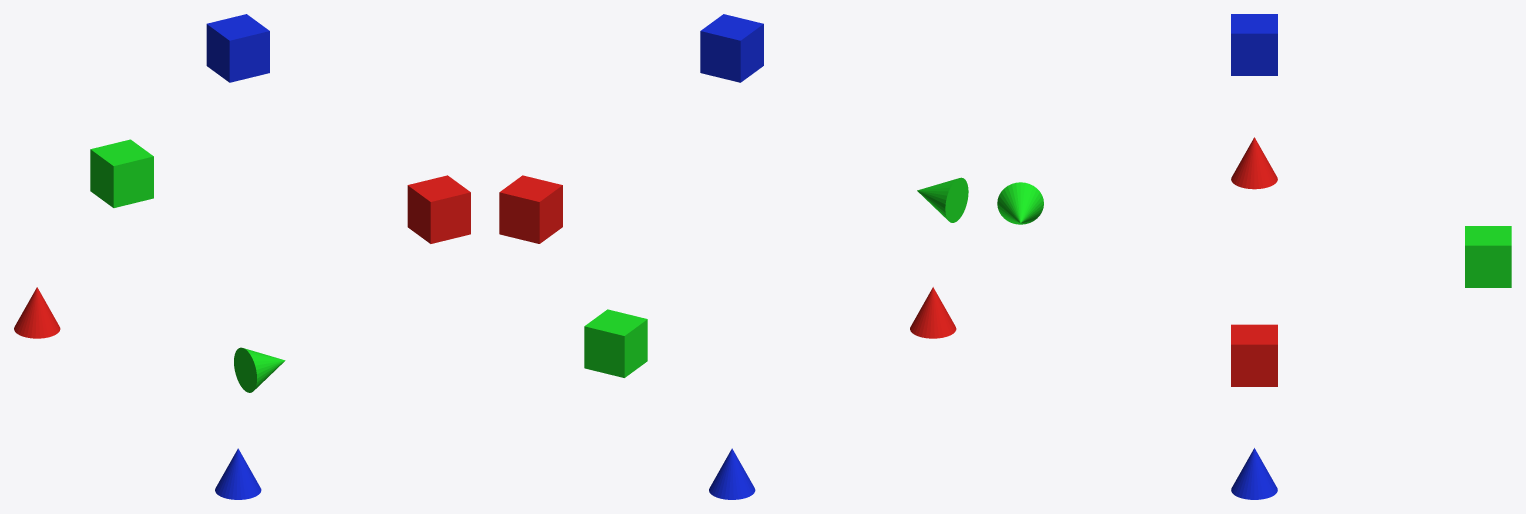
Rendered from cubes3.gltf.
3 views of the same model, side by side, from view 1: azimuth 30°, elevation 25°; view 2: azimuth 150°, elevation 25°; view 3: azimuth 270°, elevation 25° (orthographic).
Parts seen in each view (by area): view 1: CubeY, Cube, CubeX, Cone.001, Cone, Cone.002; view 2: CubeX, Cube, CubeY, Cone.001, Cone, Cone.002; view 3: CubeX, CubeY, Cube, Cone.001, Cone.002, Cone.
Boxes of the visible parts, bbox=[...] form: CubeY: bbox=[90, 139, 153, 207]; Cube: bbox=[206, 14, 269, 82]; CubeX: bbox=[407, 175, 470, 243]; Cone.001: bbox=[234, 347, 285, 392]; Cone: bbox=[14, 287, 60, 338]; Cone.002: bbox=[215, 448, 261, 499]; CubeX: bbox=[499, 175, 562, 243]; Cube: bbox=[700, 14, 763, 82]; CubeY: bbox=[584, 309, 647, 377]; Cone.001: bbox=[917, 177, 968, 222]; Cone: bbox=[910, 287, 956, 338]; Cone.002: bbox=[709, 448, 755, 499]; CubeX: bbox=[1231, 324, 1277, 386]; CubeY: bbox=[1465, 226, 1511, 287]; Cube: bbox=[1231, 14, 1277, 75]; Cone.001: bbox=[997, 182, 1043, 224]; Cone.002: bbox=[1231, 448, 1277, 499]; Cone: bbox=[1231, 137, 1277, 189].
Size of the model in its own units: 22 by 22 by 22.
